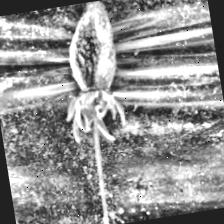Gray Mold: (49, 0, 129, 147)
